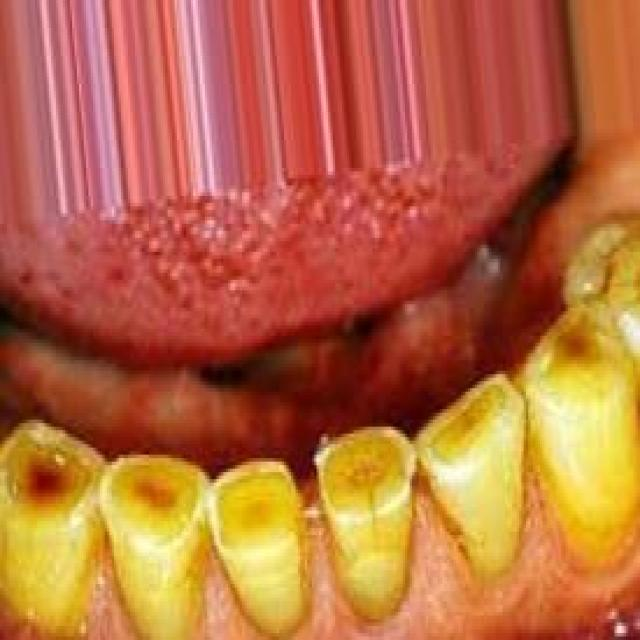caries: (0, 403, 103, 526), (310, 415, 415, 526), (529, 290, 623, 411), (108, 436, 204, 554), (427, 371, 523, 484), (208, 454, 298, 564), (573, 217, 640, 323)
